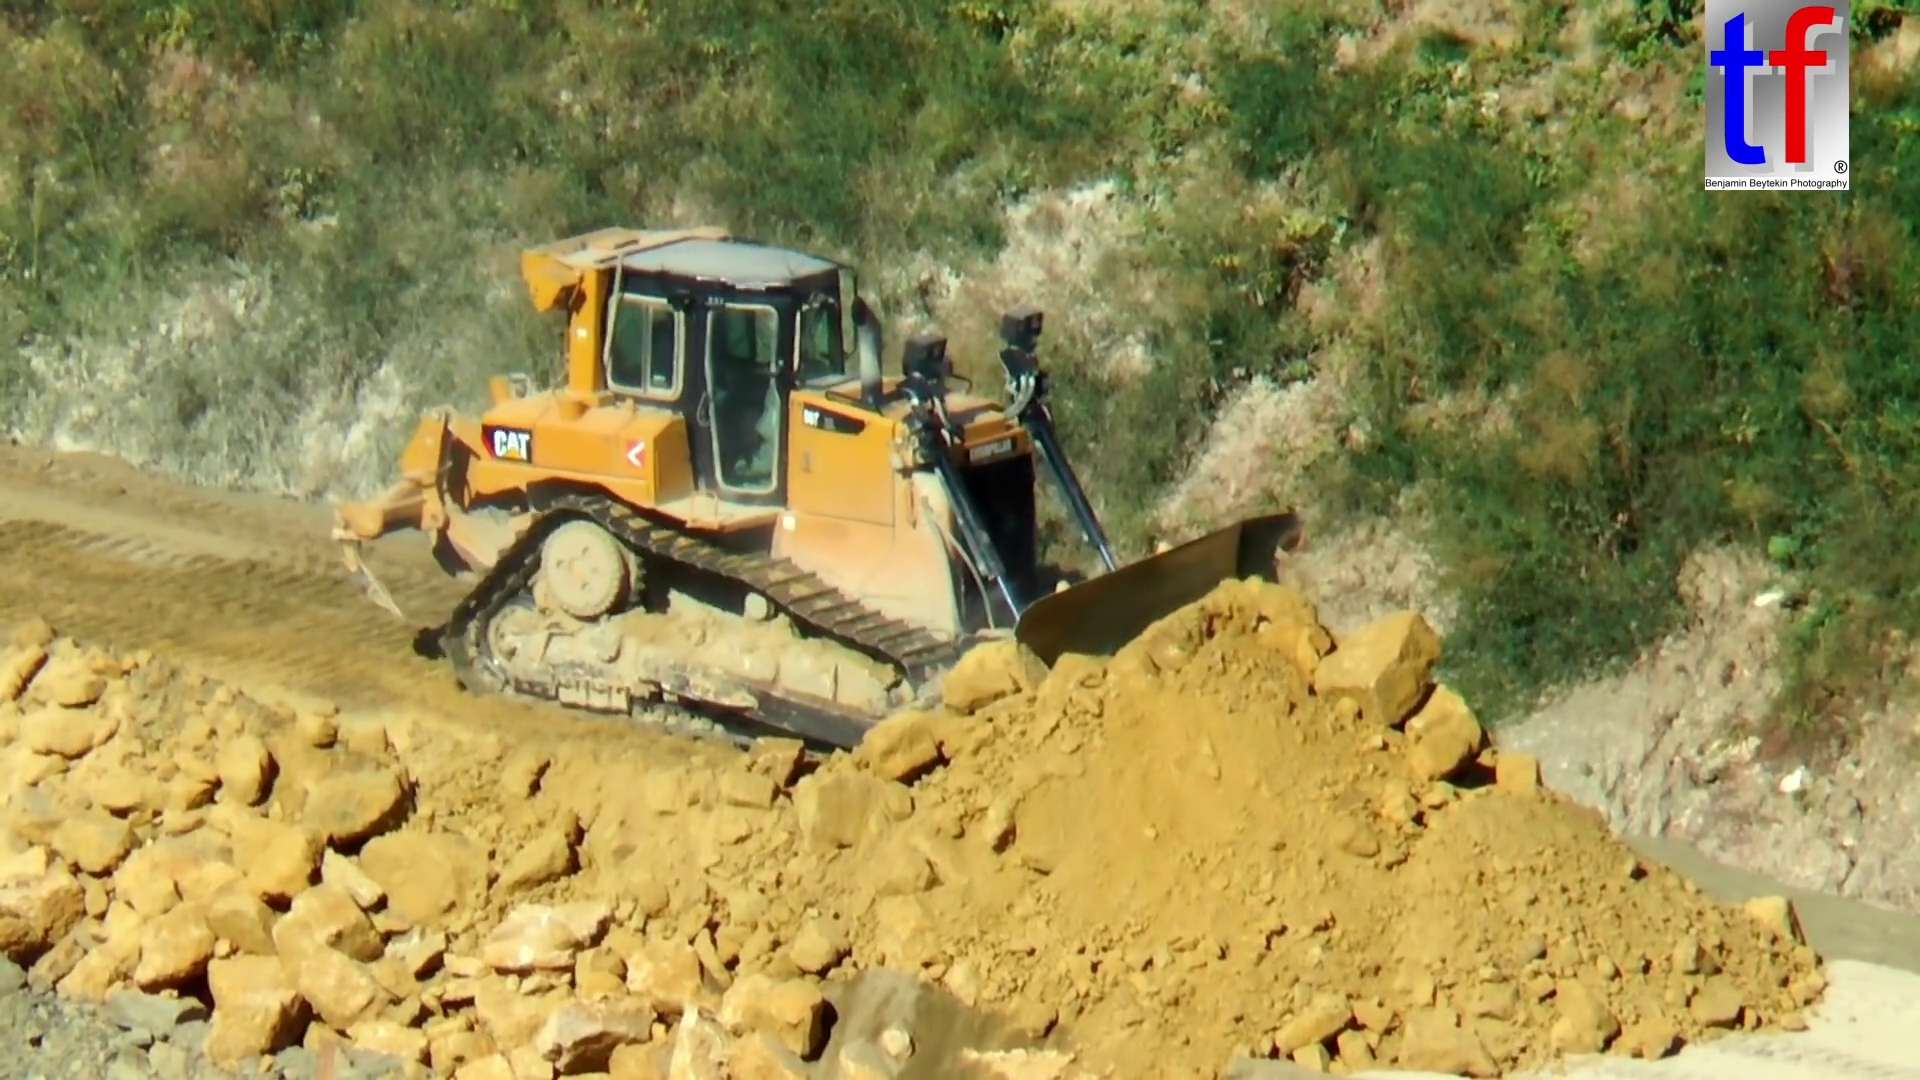bulldozer: (334, 225, 1331, 796)
